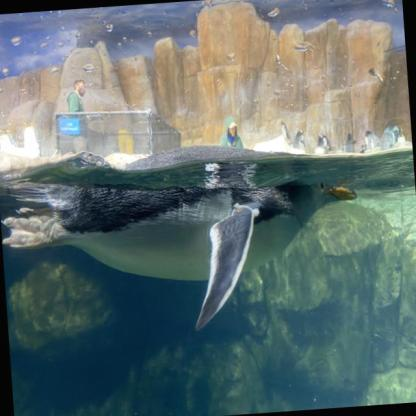penguin: (0, 152, 365, 345), (22, 119, 42, 159), (0, 126, 16, 154), (380, 125, 396, 151), (341, 132, 357, 152), (292, 130, 306, 152), (364, 128, 378, 150), (317, 132, 330, 154), (396, 126, 405, 144), (280, 120, 289, 138)
